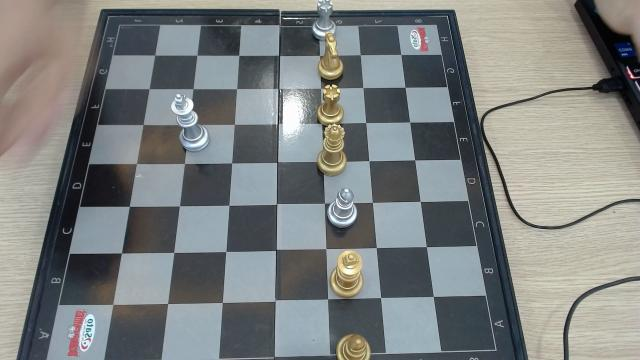black_bishop: (336, 334, 373, 360)
black_king: (331, 251, 365, 299)
black_knight: (318, 31, 345, 79)
black_queen: (318, 124, 347, 176)
black_rook: (317, 85, 344, 125)
white_bishop: (327, 188, 359, 230)
white_king: (171, 93, 210, 152)
white_rook: (312, 0, 336, 37)
